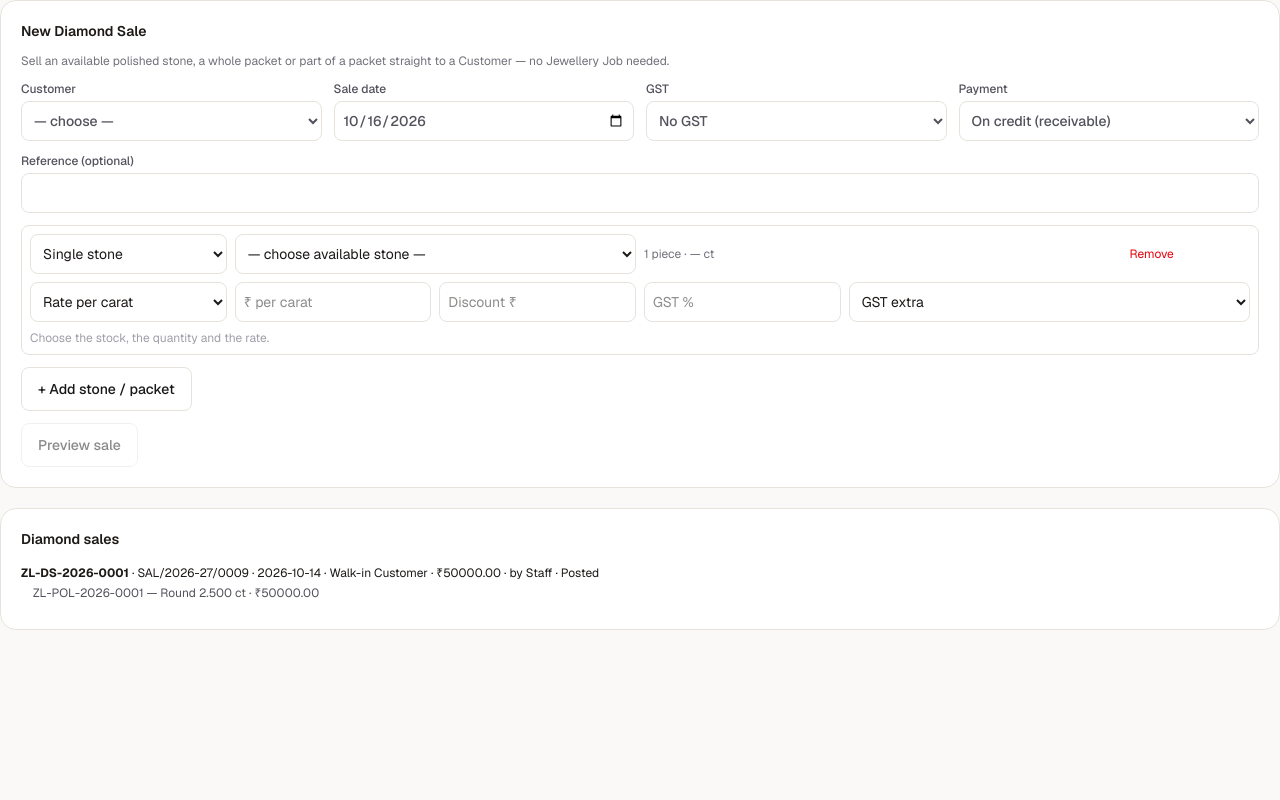
Scenario: Diamond Sales tab › shows the live base amount for a stone sold per carat: 2.500 CT × ₹20,000.00/CT = ₹50,000.00
Select "ZL-POL-2026-0001 · Round VS · 2.500 ct" in the dropdown with test id "ds-source" at (435, 254), box [235, 234, 636, 274]
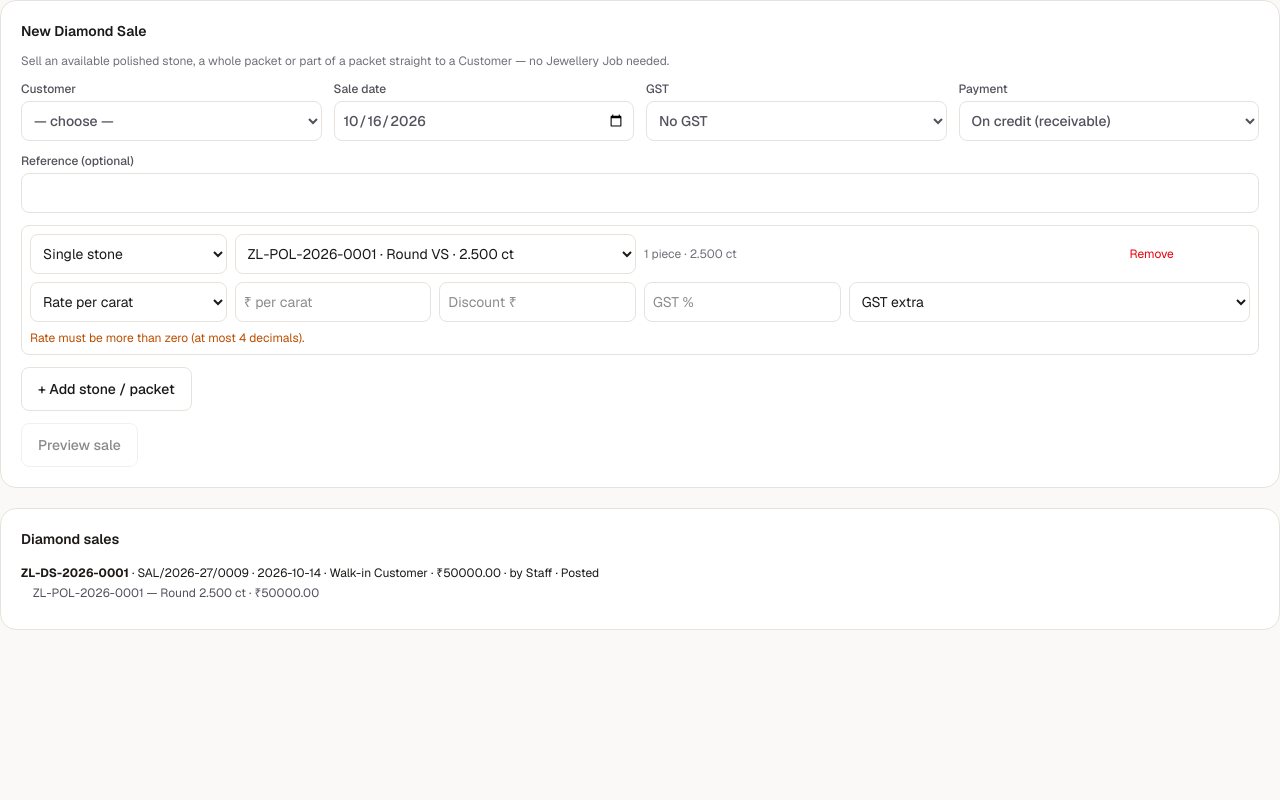
Type "20000" into the field with test id "ds-rate" at (333, 302), box [235, 282, 431, 322]
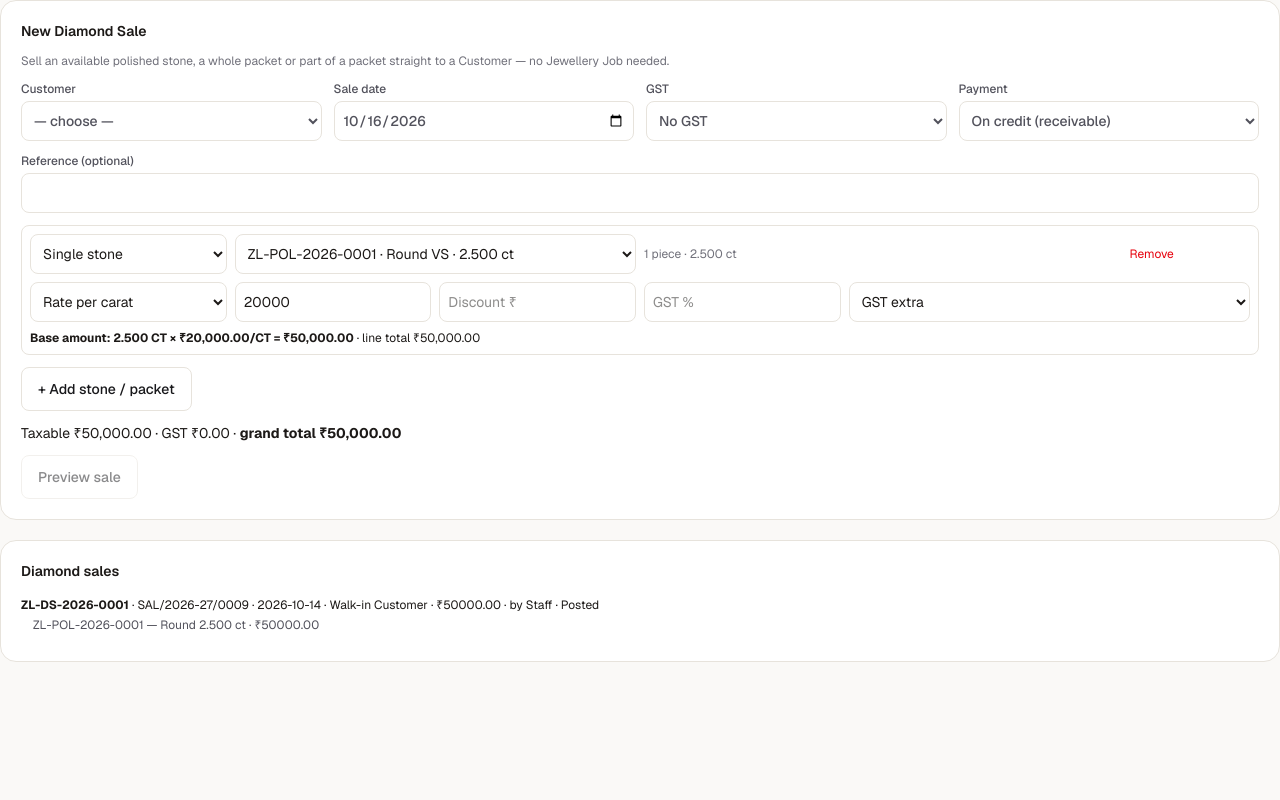
Expected: the element with test id "ds-line-amount" shows "2.500 CT × ₹20,000.00/CT = ₹50,000.00", [113, 330, 354, 346]
Expected: the element with test id "ds-totals" shows "grand total ₹50,000.00", [21, 424, 401, 442]
